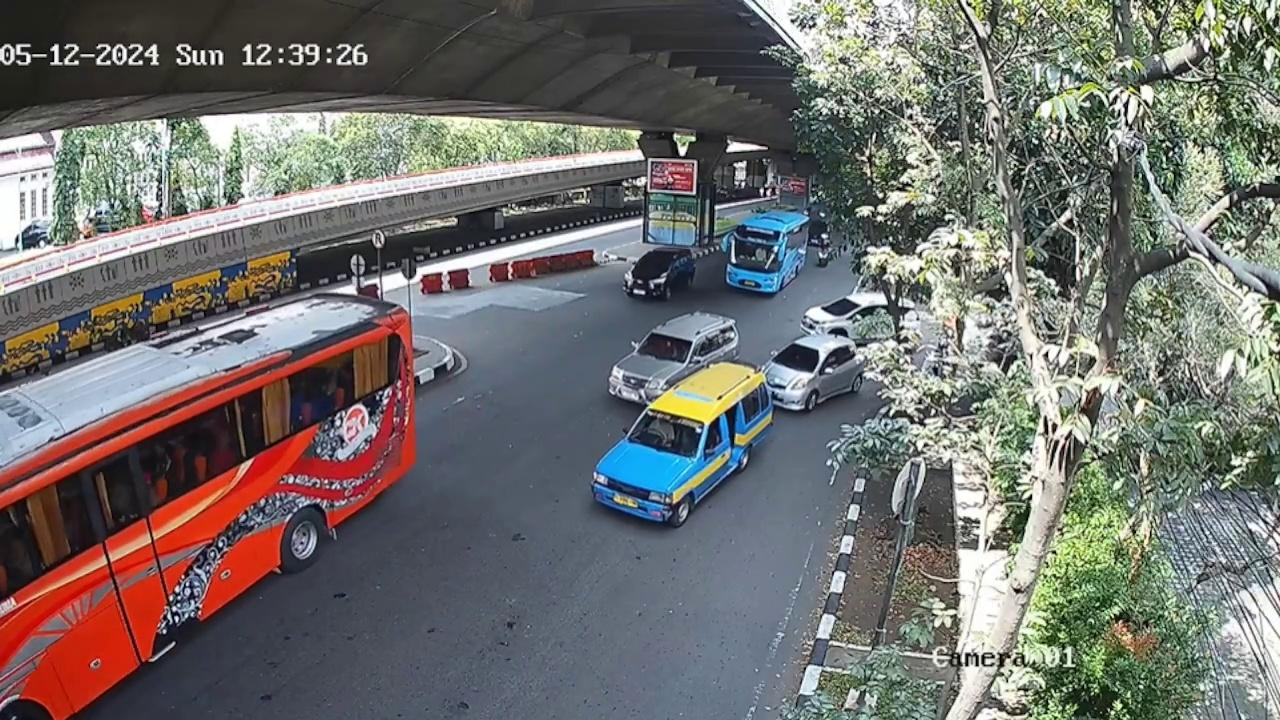tidak-pakai: (646, 415, 679, 447)
windshield: (626, 409, 705, 454), (628, 326, 694, 367)
